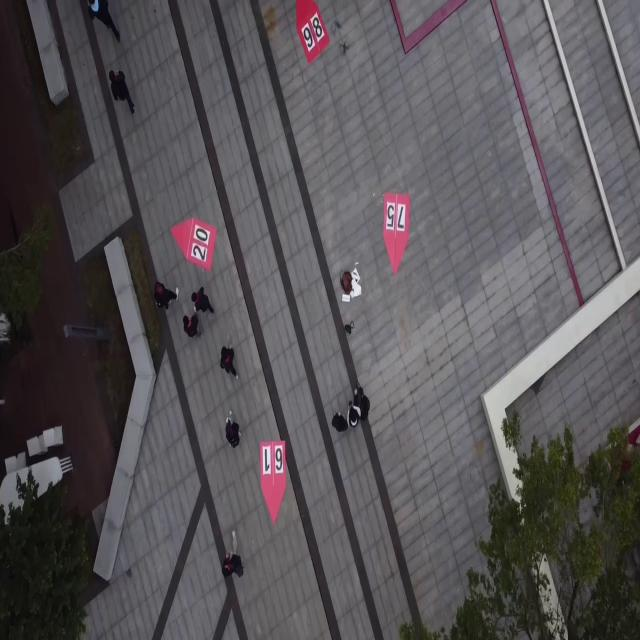-sign-: (248, 434, 295, 530), (169, 208, 221, 282), (376, 181, 414, 281)
